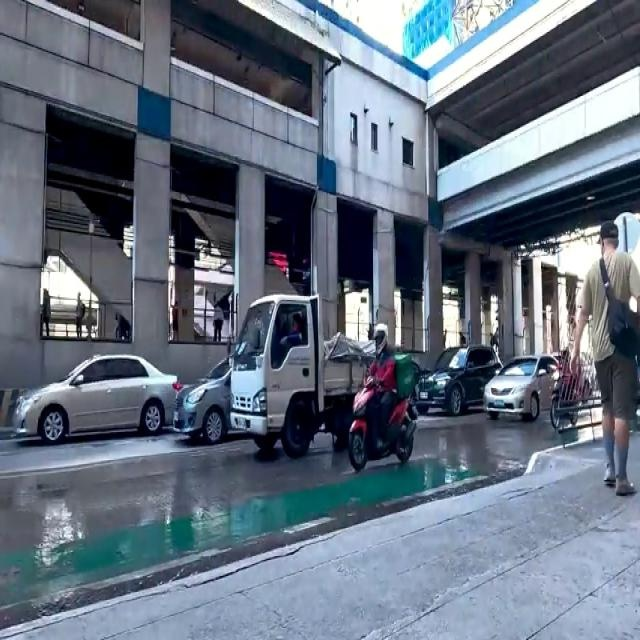car: (15, 355, 173, 448), (175, 351, 253, 449), (419, 343, 494, 415), (480, 350, 552, 420)
motorcycle: (349, 322, 415, 484)
truck: (231, 296, 406, 460)
